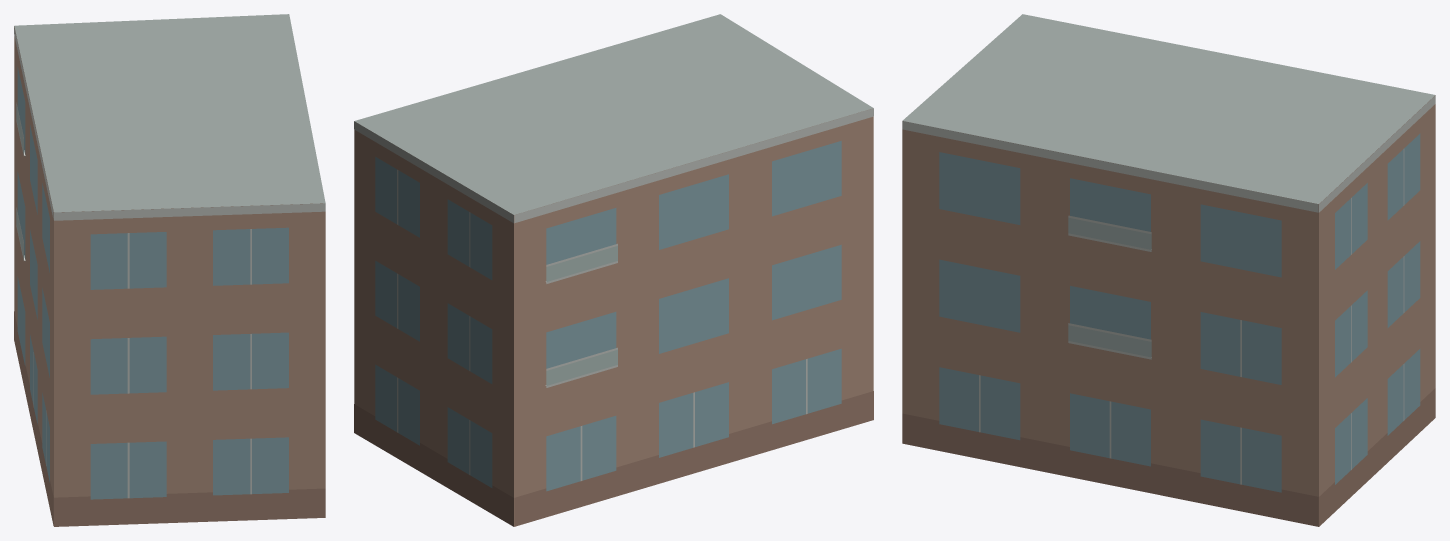
The model's file is survey-upis-32665138.glb.
The picture shows the model from 3 angles, left to right: view 1: azimuth 30°, elevation 25°; view 2: azimuth 150°, elevation 25°; view 3: azimuth 270°, elevation 25°; orthographic projection. The views are drawn at different scales.
Visible parts, largest first — view 1: survey-upis-32665138.tmp; view 2: survey-upis-32665138.tmp; view 3: survey-upis-32665138.tmp.
Part boxes in pixels (box(x1,y1,x2,y2)): survey-upis-32665138.tmp: box(14, 14, 325, 526); survey-upis-32665138.tmp: box(354, 14, 873, 526); survey-upis-32665138.tmp: box(902, 14, 1435, 526).
Size of the model in its own units: 11.51 by 9.1 by 13.64.
